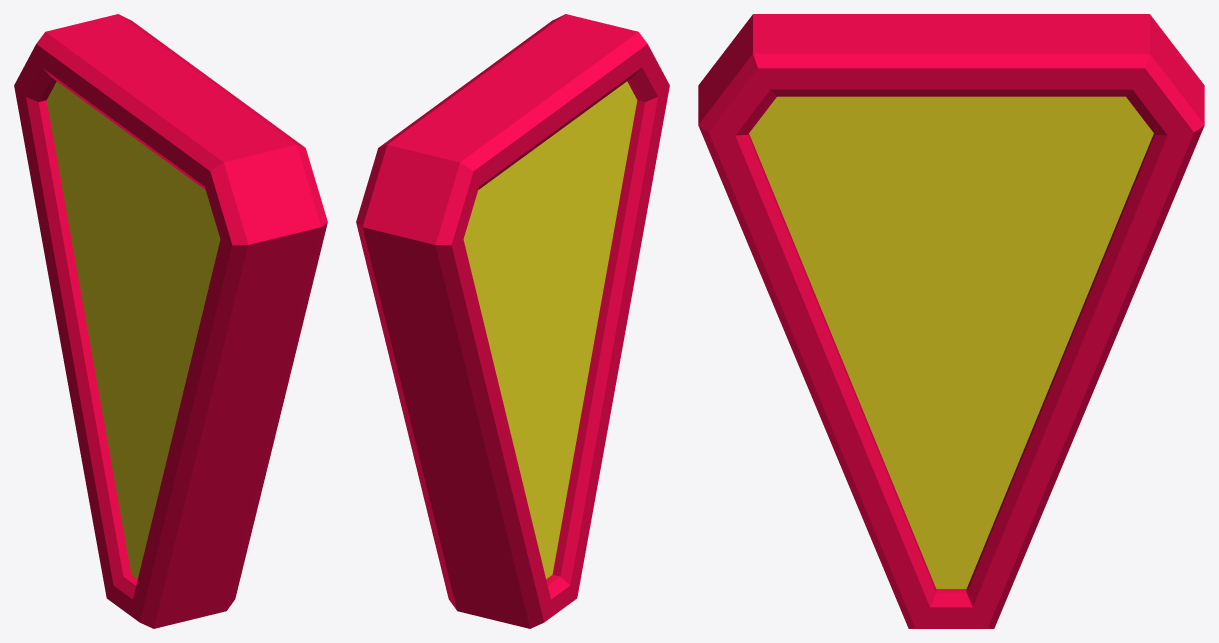
File: floatingSign.fbx
3 views of the same model, side by side, from view 1: azimuth 30°, elevation 25°; view 2: azimuth 150°, elevation 25°; view 3: azimuth 270°, elevation 25° (orthographic). The views are drawn at different scales.
Visible parts, largest first — view 1: Cube.048; view 2: Cube.048; view 3: Cube.048.
Part boxes in pixels (bbox=[...]): Cube.048: bbox=[14, 14, 327, 628]; Cube.048: bbox=[356, 14, 669, 628]; Cube.048: bbox=[698, 14, 1204, 628].
Size of the model in its own units: 46.19 by 239 by 191.
